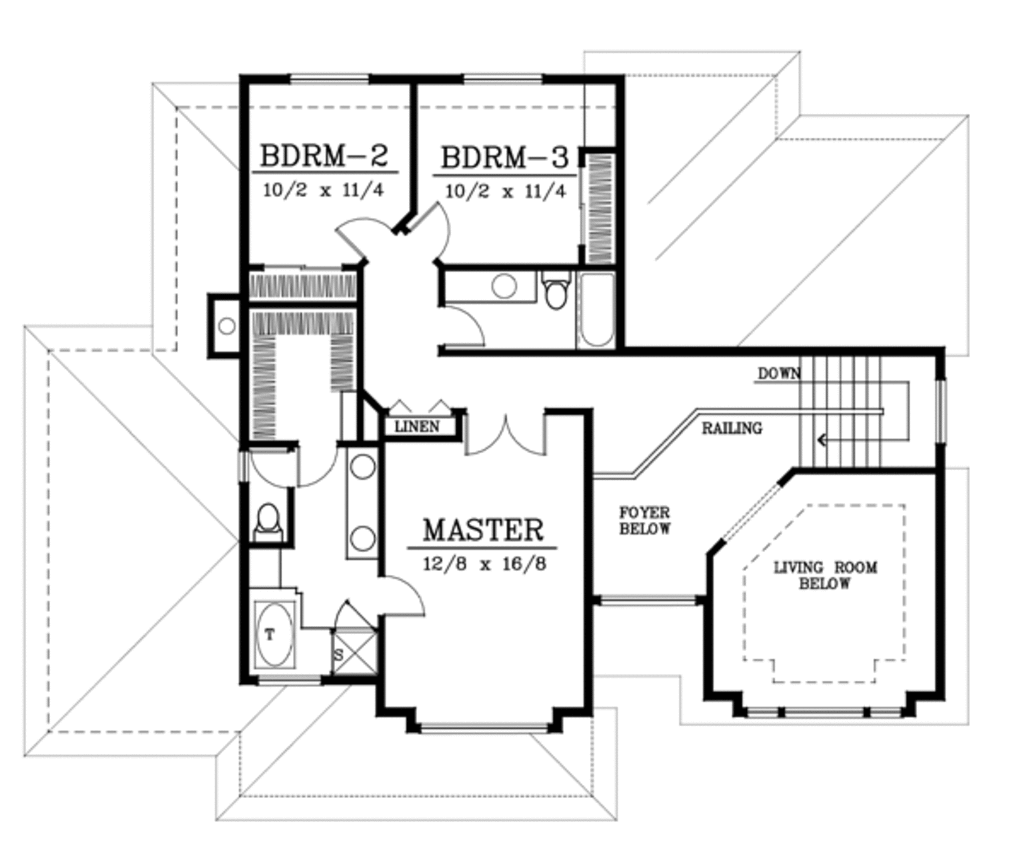door: (457, 412, 556, 457), (335, 208, 398, 274), (399, 195, 461, 259), (379, 564, 446, 617), (433, 297, 495, 354), (241, 443, 304, 488), (286, 445, 348, 483), (333, 593, 373, 628)
large_sink: (245, 495, 296, 541), (540, 263, 577, 318)
small_sink: (345, 443, 379, 559), (452, 266, 544, 304)
stairs: (686, 345, 933, 468)
tub: (241, 582, 311, 674), (577, 268, 616, 353)
window: (412, 709, 557, 742), (732, 704, 919, 721), (283, 67, 378, 92), (465, 66, 548, 85), (932, 375, 950, 453), (600, 592, 704, 604)
